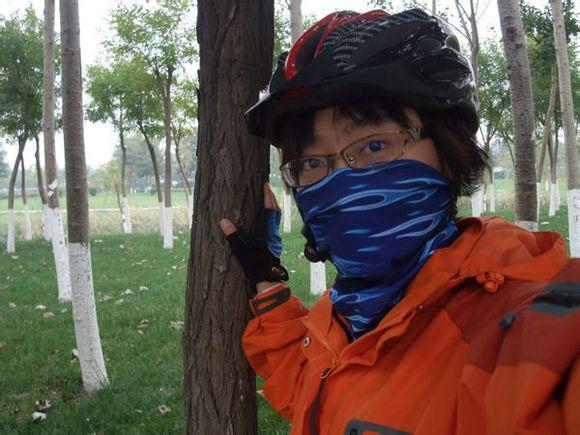OK: (297, 122, 441, 264)
